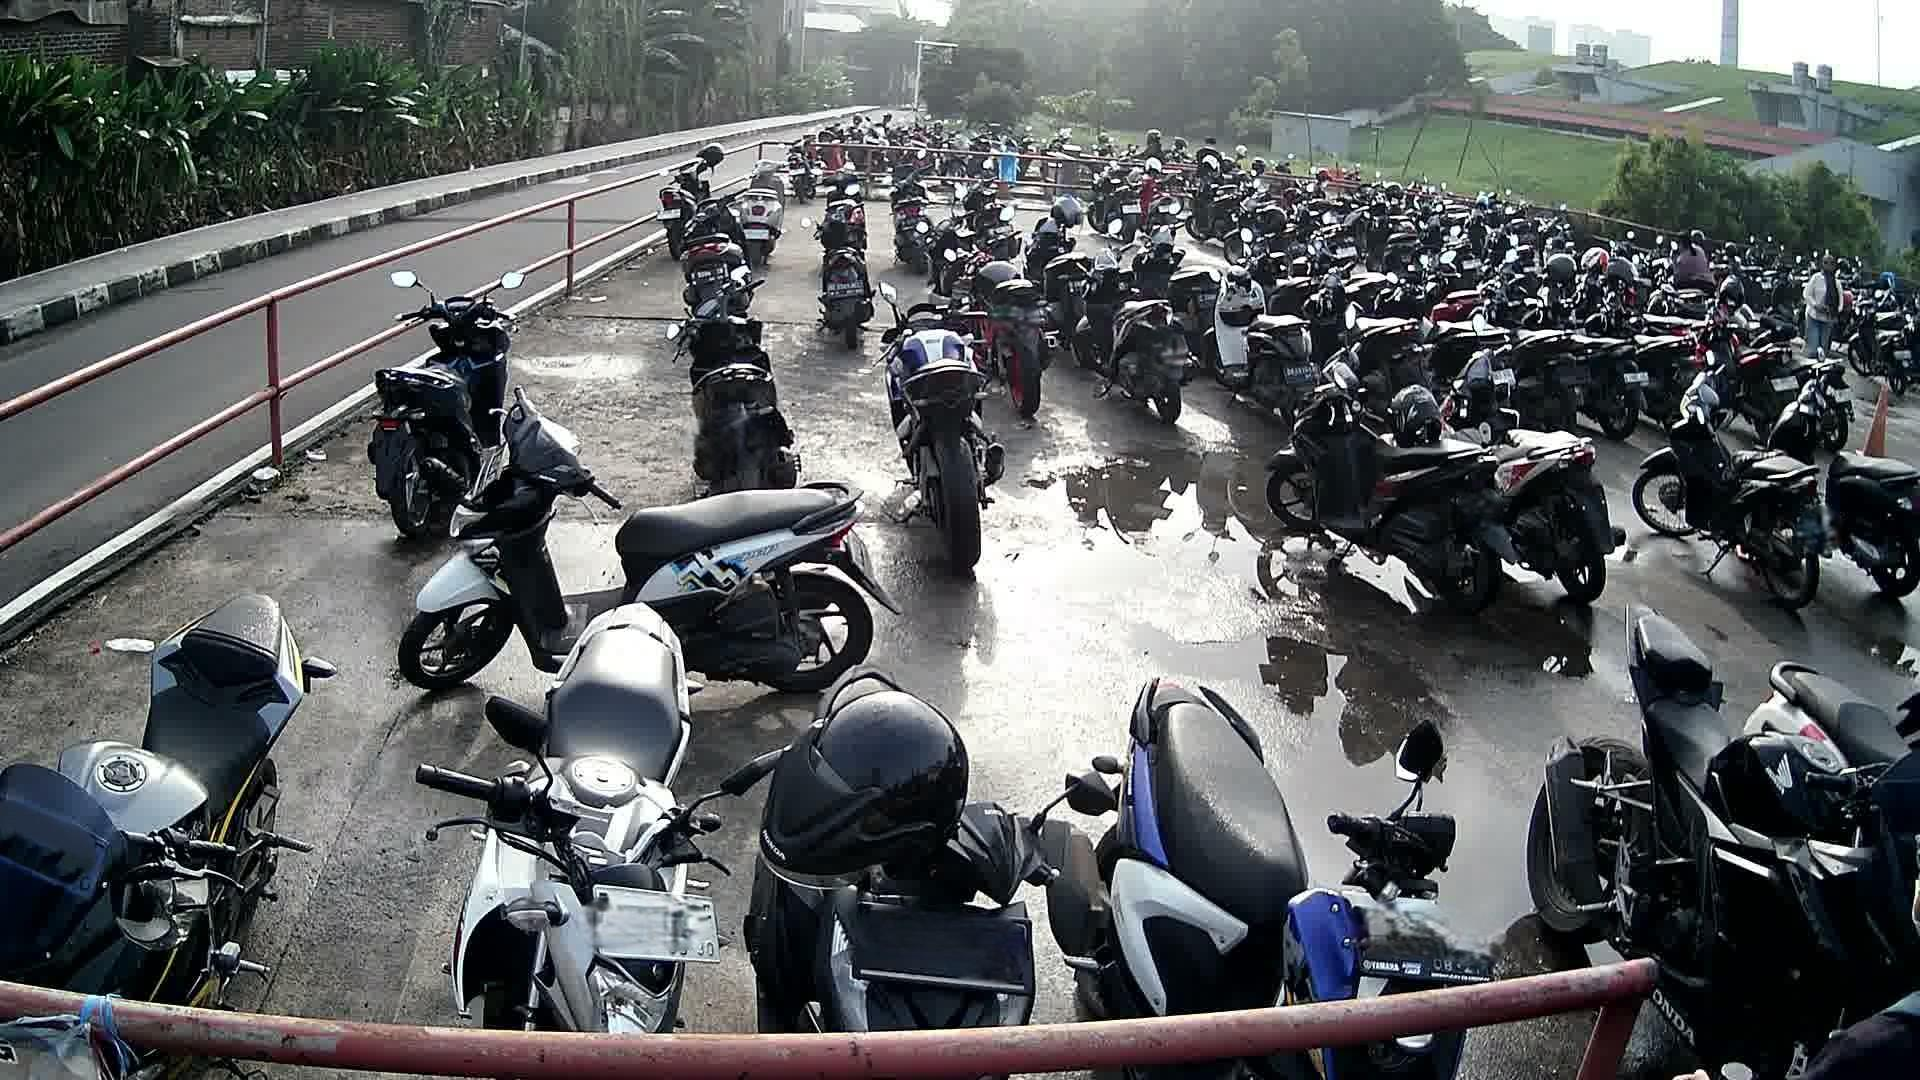motorcycle: (404, 390, 891, 692), (1042, 675, 1491, 988), (1531, 604, 1920, 952), (0, 584, 336, 985), (422, 607, 731, 1027), (746, 659, 1055, 1025), (1261, 363, 1513, 612), (1443, 352, 1635, 603), (1638, 363, 1829, 603), (876, 284, 1023, 572), (367, 265, 522, 537), (1782, 371, 1920, 596), (663, 277, 808, 492), (1746, 658, 1920, 762)
